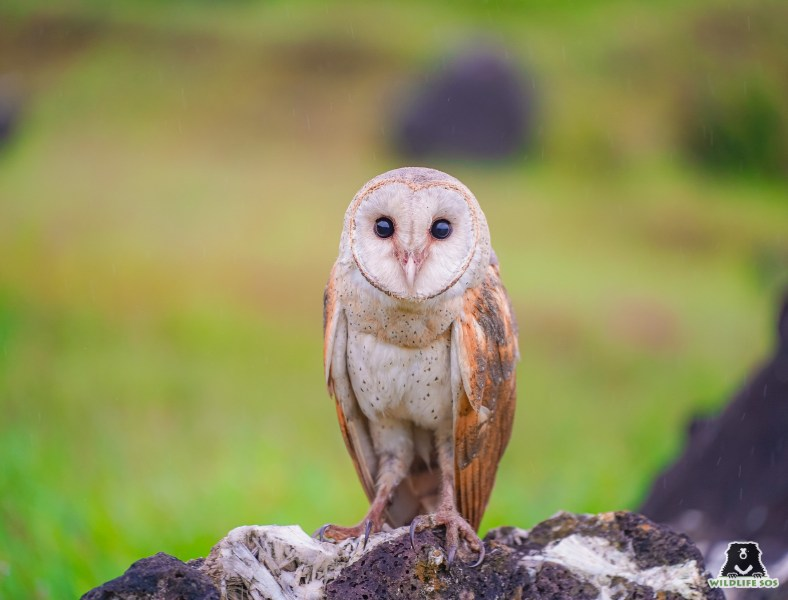owl: (317, 163, 528, 554)
